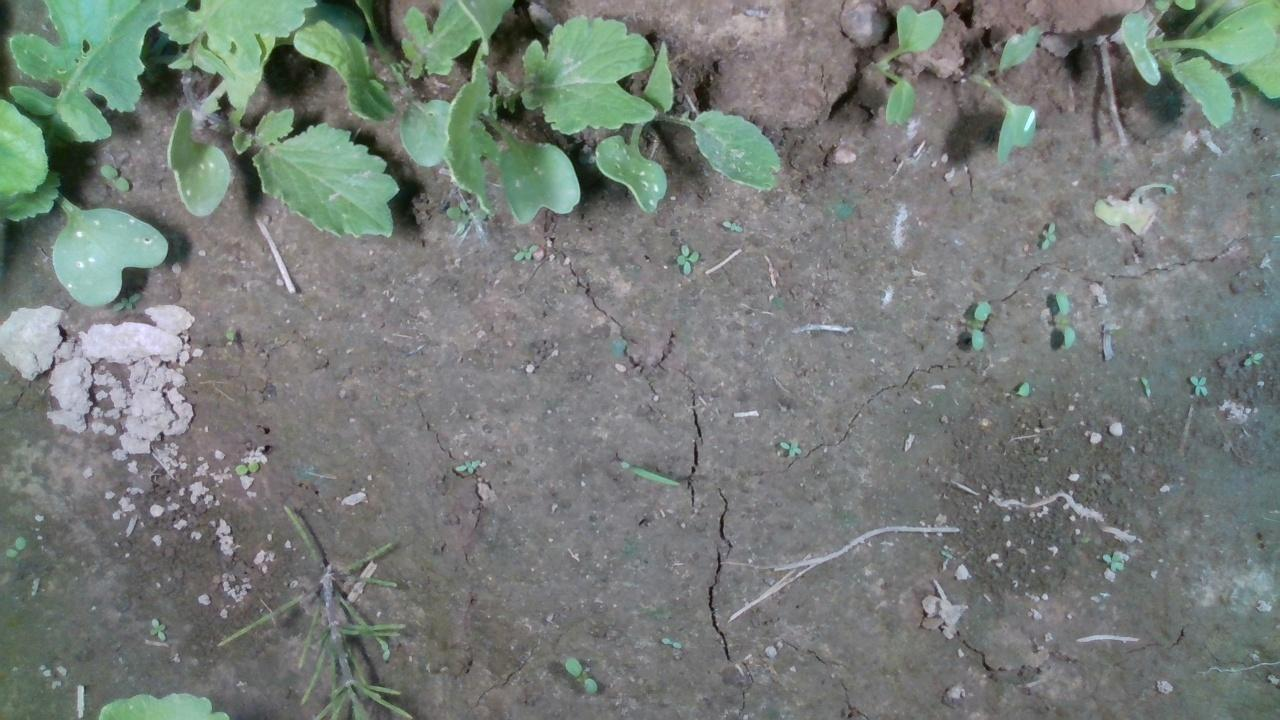weed: (1051, 286, 1076, 350), (563, 655, 597, 694), (968, 297, 990, 351), (97, 162, 131, 191), (673, 243, 698, 275), (510, 241, 541, 262), (1038, 220, 1058, 250), (1186, 373, 1209, 398), (1101, 549, 1124, 573), (453, 456, 482, 475), (4, 534, 25, 558), (778, 437, 803, 456), (147, 616, 166, 641), (233, 459, 259, 475), (1242, 349, 1264, 366), (721, 217, 742, 232), (659, 635, 682, 648)
